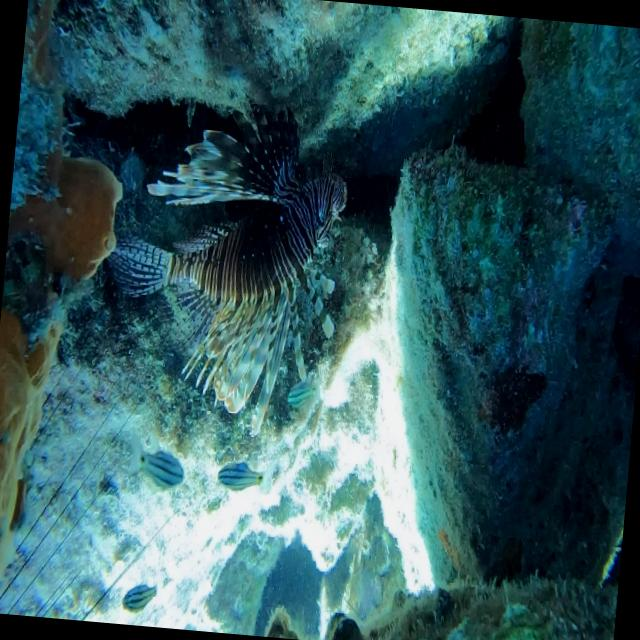Aslan Baligi: (92, 89, 356, 444)
